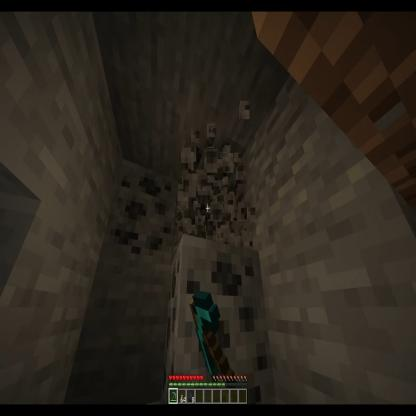coal ore: (161, 236, 278, 404), (101, 158, 181, 268)
